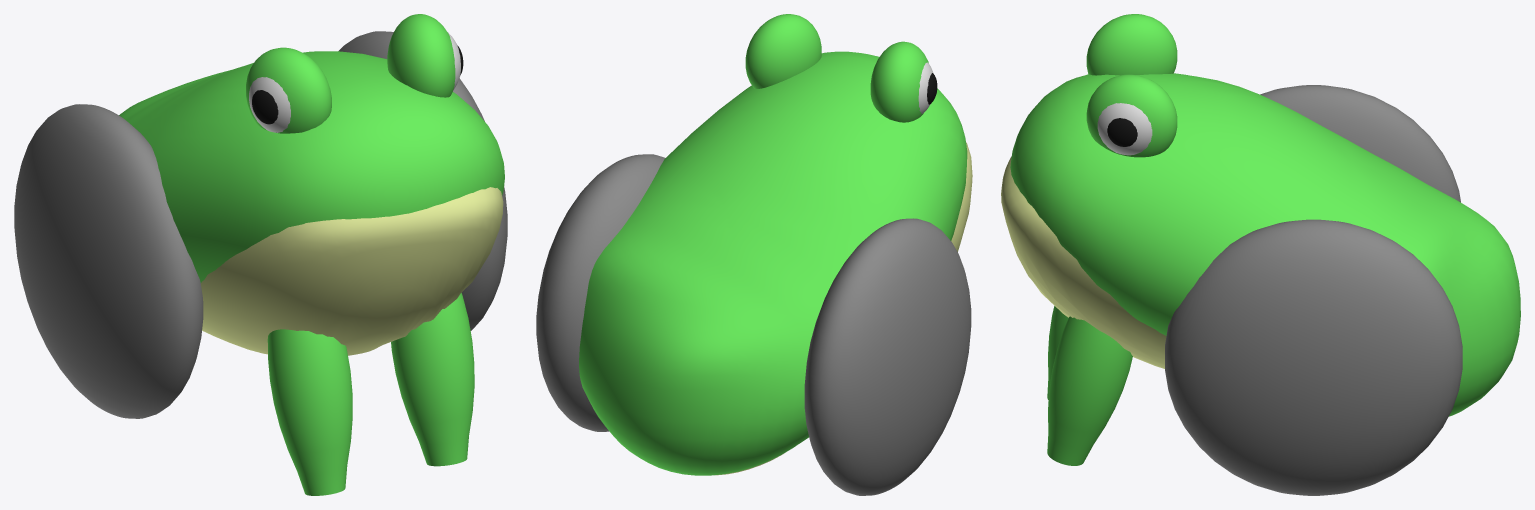
The model's file is frog.fbx.
3 renders of one model, left to right at view 1: azimuth 30°, elevation 25°; view 2: azimuth 150°, elevation 25°; view 3: azimuth 270°, elevation 25°, orthographic. The views are drawn at different scales.
Visible parts, largest first — view 1: Объект_Сфера, Объект_Сфера_9, Объект_Сфера_1, Объект_Цилиндр, Объект_Цилиндр_1, Объект_Сфера_2, Объект_Сфера_3, Объект_Сфера_8, Объект_Сфера_5, Объект_Сфера_7; view 2: Объект_Сфера, Объект_Сфера_9, Объект_Сфера_8, Объект_Сфера_2, Объект_Сфера_3, Объект_Сфера_1; view 3: Объект_Сфера, Объект_Сфера_8, Объект_Сфера_1, Объект_Цилиндр_1, Объект_Сфера_9, Объект_Сфера_3, Объект_Сфера_2, Объект_Сфера_4, Объект_Цилиндр, Объект_Сфера_6.
Part boxes in pixels (x1=…): Объект_Сфера: x1=119, y1=51, x2=504, y2=282; Объект_Сфера_9: x1=14, y1=104, x2=203, y2=418; Объект_Сфера_1: x1=201, y1=187, x2=503, y2=355; Объект_Цилиндр: x1=267, y1=329, x2=352, y2=495; Объект_Цилиндр_1: x1=391, y1=293, x2=474, y2=466; Объект_Сфера_2: x1=387, y1=14, x2=455, y2=97; Объект_Сфера_3: x1=246, y1=47, x2=331, y2=133; Объект_Сфера_8: x1=338, y1=31, x2=507, y2=330; Объект_Сфера_5: x1=249, y1=77, x2=290, y2=132; Объект_Сфера_7: x1=252, y1=90, x2=278, y2=124; Объект_Сфера: x1=579, y1=51, x2=967, y2=475; Объект_Сфера_9: x1=804, y1=218, x2=971, y2=495; Объект_Сфера_8: x1=536, y1=154, x2=665, y2=431; Объект_Сфера_2: x1=745, y1=14, x2=821, y2=88; Объект_Сфера_3: x1=870, y1=41, x2=928, y2=122; Объект_Сфера_1: x1=715, y1=142, x2=972, y2=475; Объект_Сфера: x1=1010, y1=73, x2=1520, y2=416; Объект_Сфера_8: x1=1165, y1=219, x2=1462, y2=495; Объект_Сфера_1: x1=1001, y1=156, x2=1166, y2=368; Объект_Цилиндр_1: x1=1047, y1=316, x2=1132, y2=465; Объект_Сфера_9: x1=1260, y1=85, x2=1460, y2=202; Объект_Сфера_3: x1=1086, y1=14, x2=1177, y2=75; Объект_Сфера_2: x1=1086, y1=74, x2=1177, y2=157; Объект_Сфера_4: x1=1097, y1=103, x2=1152, y2=155; Объект_Цилиндр: x1=1047, y1=306, x2=1068, y2=399; Объект_Сфера_6: x1=1107, y1=118, x2=1137, y2=146.
Size of the model in its own units: 235 by 229 by 278.
